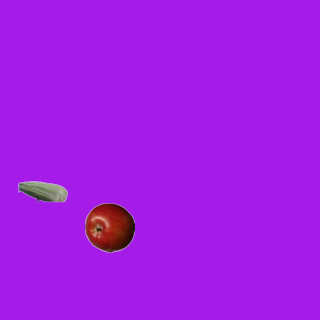Apple Braeburn: (84, 202, 134, 252)
Corn Husk: (17, 166, 67, 216)
